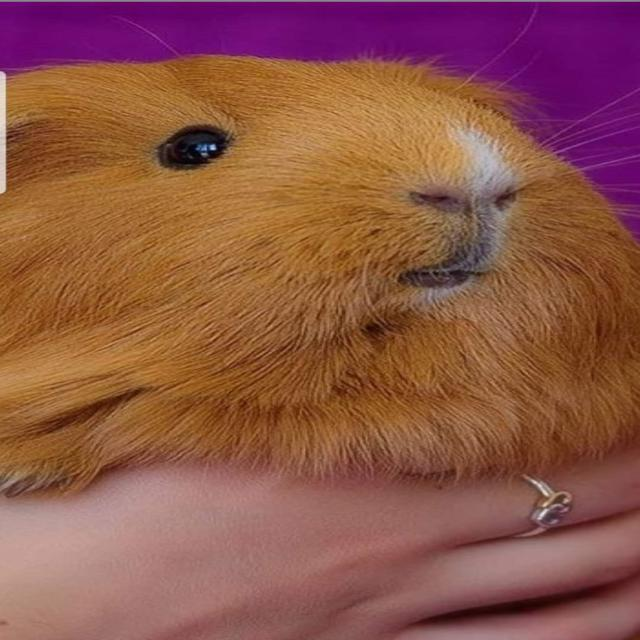guinea pig: (1, 52, 640, 495)
